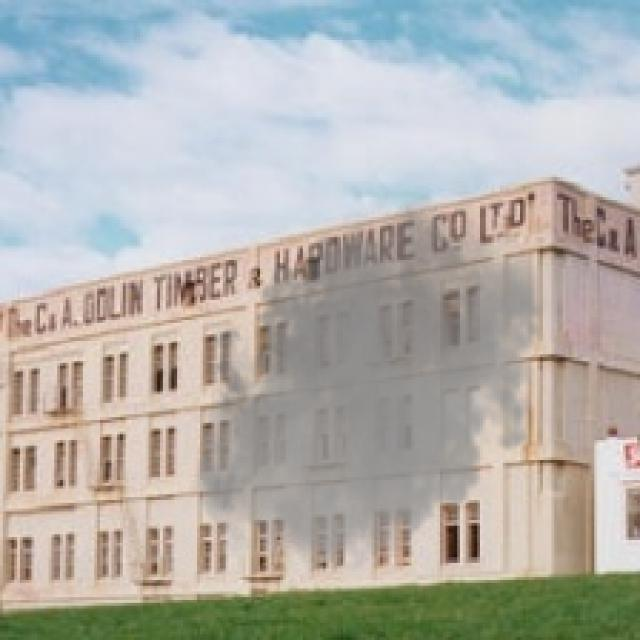smoke: (189, 183, 554, 580)
